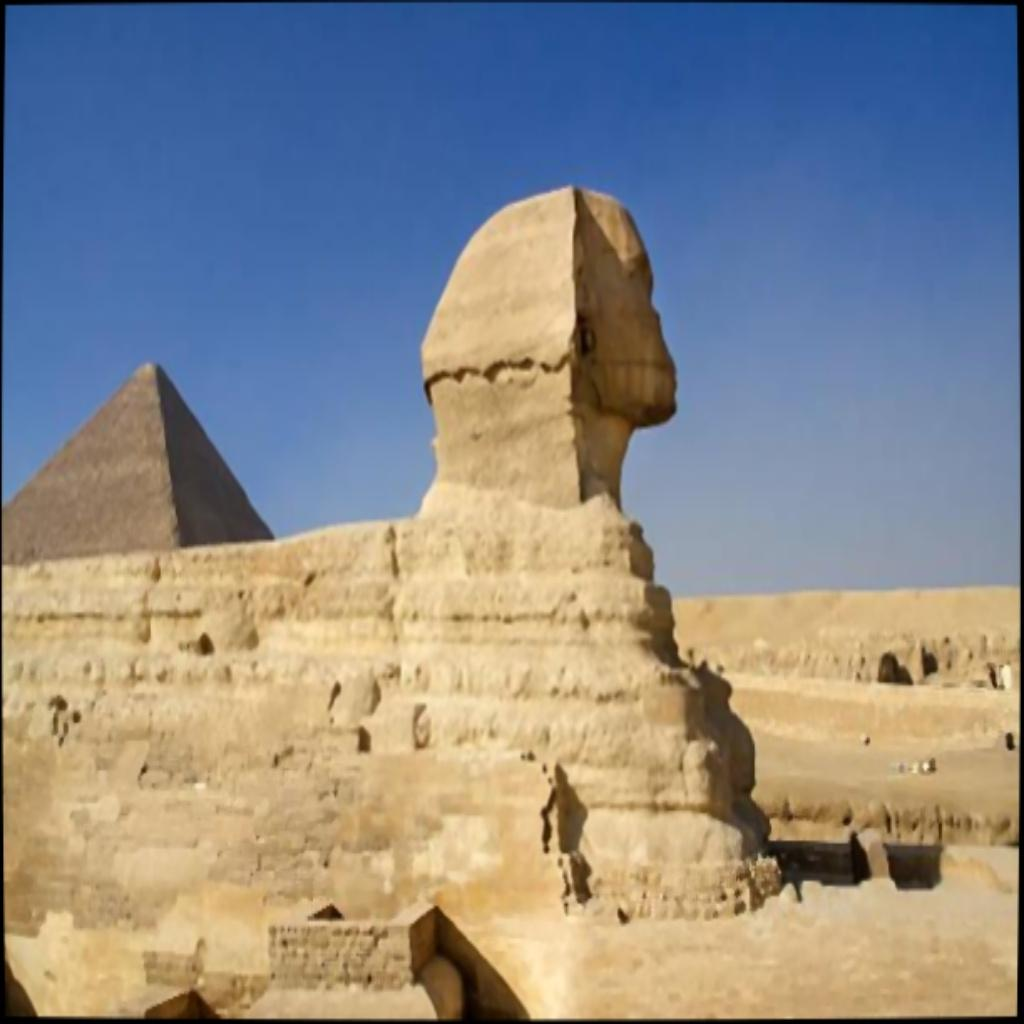Sphinx: (2, 181, 778, 1009), (416, 181, 678, 517)
